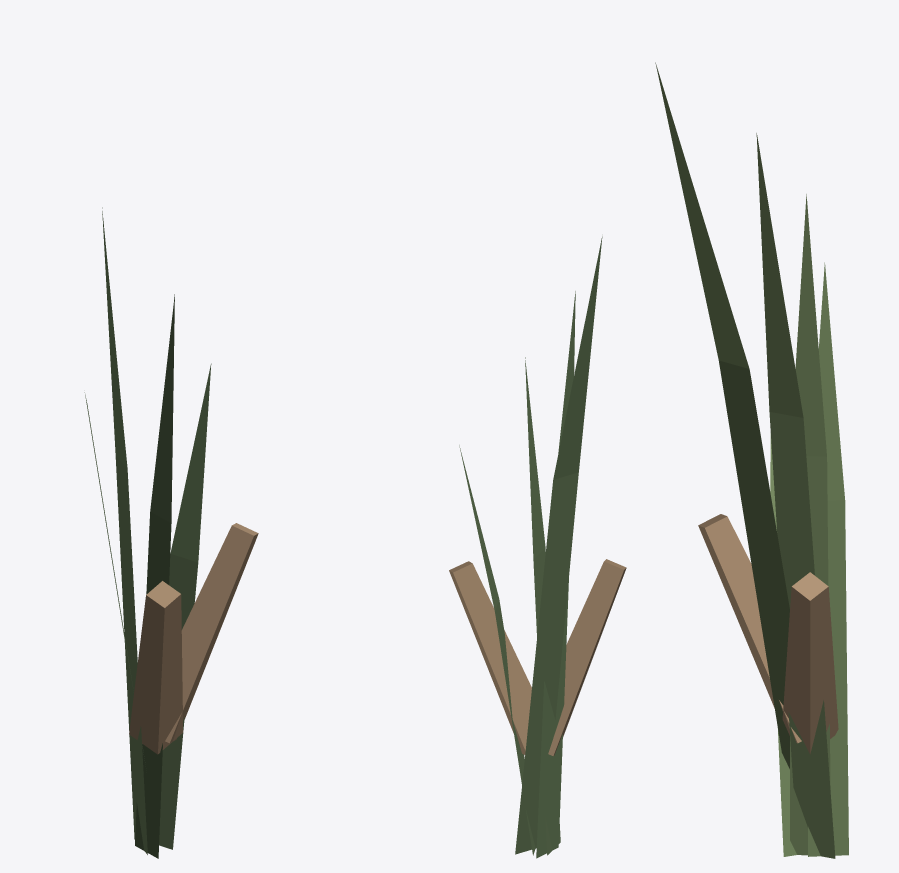
File: shui.changpu__summer.glb
3 views of the same model, side by side, from view 1: azimuth 30°, elevation 25°; view 2: azimuth 150°, elevation 25°; view 3: azimuth 270°, elevation 25° (orthographic). The views are drawn at different scales.
Parts seen in each view (by area): view 1: shui.changpu__summer; view 2: shui.changpu__summer; view 3: shui.changpu__summer.
Part boxes in pixels (x1,y1,x2,y2): shui.changpu__summer: [84, 207, 258, 858]; shui.changpu__summer: [449, 236, 626, 858]; shui.changpu__summer: [655, 62, 848, 858].
Bounding box in the file's own units: 0.5859 × 1.62 × 0.3823.
